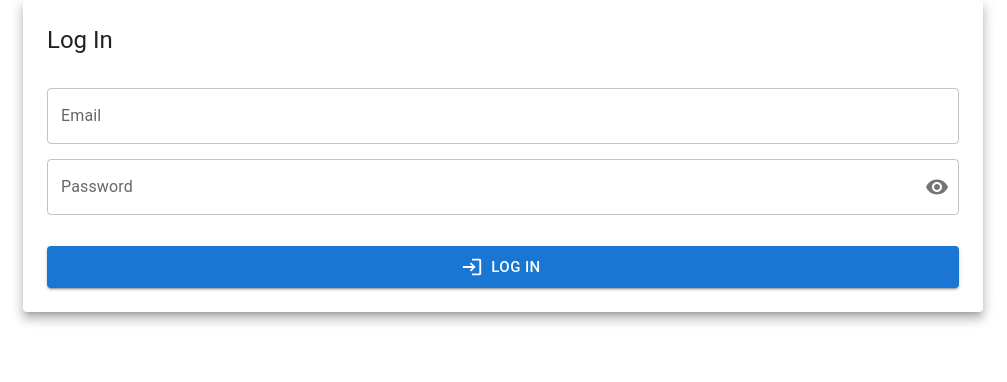
Test: Login › Email Field › should validate email pattern correctly
This screenshot has width=1007, height=382.
Type "invalid..email..pattern" into the field with test id "login-email-input" at (503, 116), box 47,88 -> 959,144
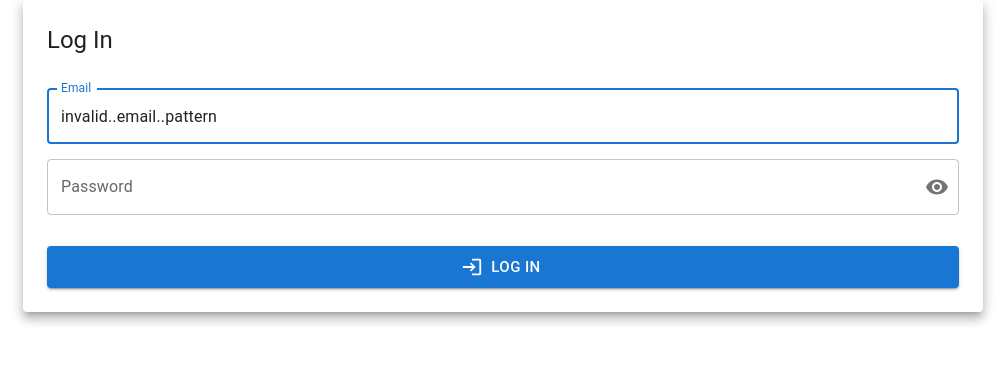
Click the button with test id "login-submit-button" at (503, 267), box 47,246 -> 959,288
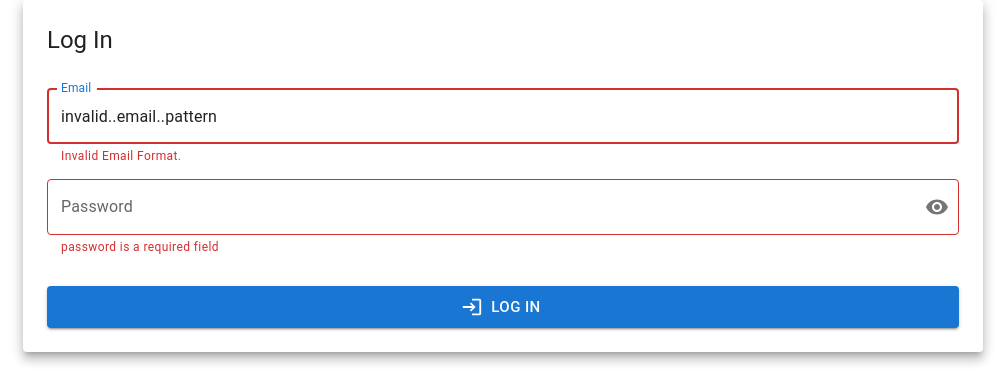
Expected: the text with test id "login-email-error" reads "Invalid Email Format.", 61,149 -> 181,163
